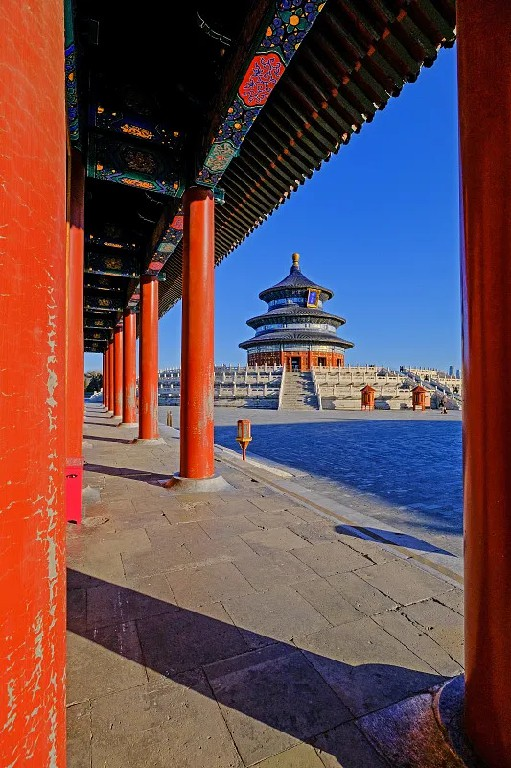Heaven: (237, 252, 356, 372)
